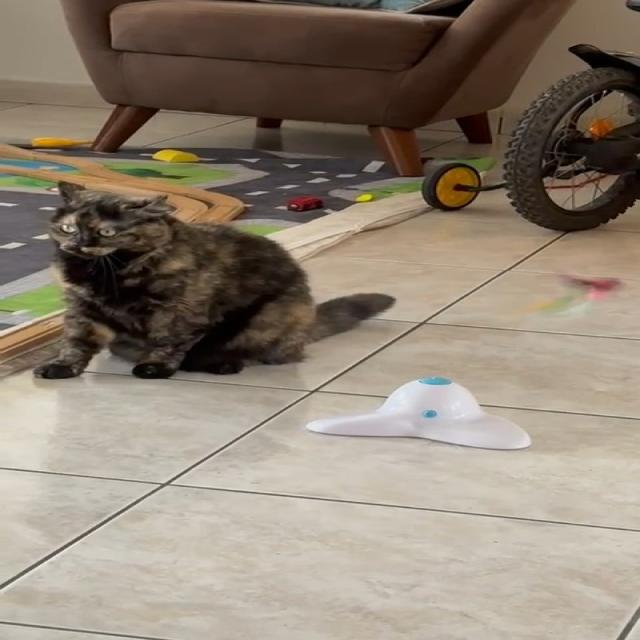authorized: (32, 180, 396, 380)
